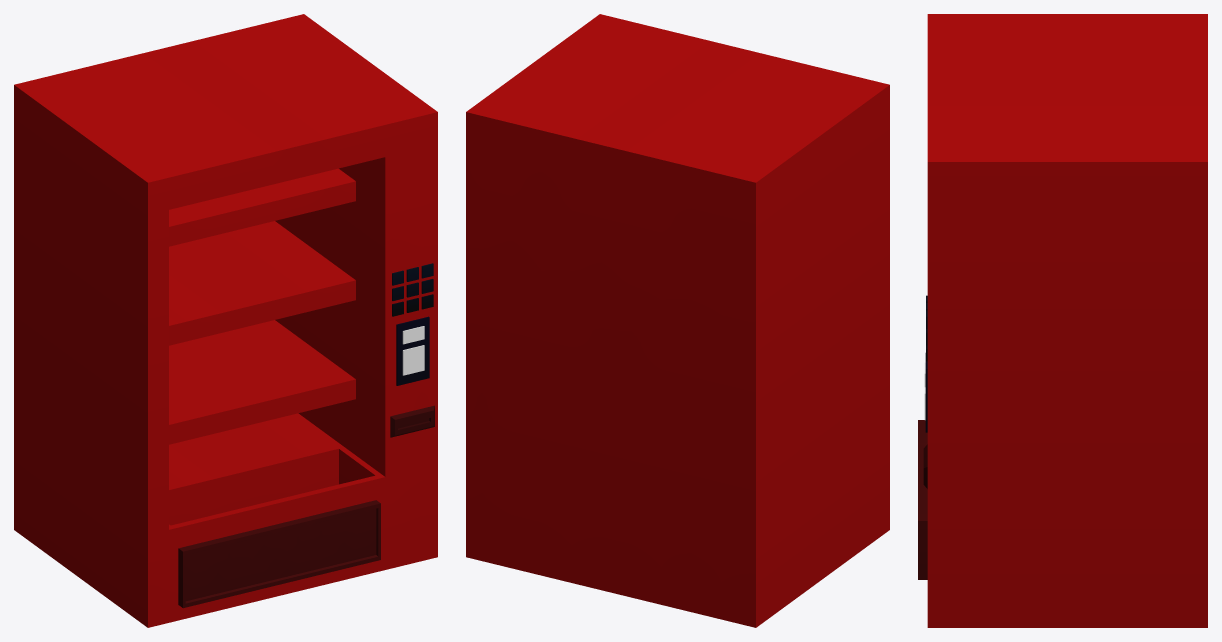
Rendered from Maquina_Expendedora.fbx.
The picture shows the model from 3 angles, left to right: view 1: azimuth 30°, elevation 25°; view 2: azimuth 150°, elevation 25°; view 3: azimuth 270°, elevation 25°; orthographic projection. The views are drawn at different scales.
Visible parts, largest first — view 1: Maquina_Expendedora.001; view 2: Maquina_Expendedora.001; view 3: Maquina_Expendedora.001.
Boxes of the visible parts, x1=… form: Maquina_Expendedora.001: x1=14, y1=14, x2=437, y2=627; Maquina_Expendedora.001: x1=466, y1=14, x2=889, y2=627; Maquina_Expendedora.001: x1=918, y1=14, x2=1207, y2=627.
Size of the model in its own units: 6.23 by 9.13 by 5.15.
1 material, 1 textured.
